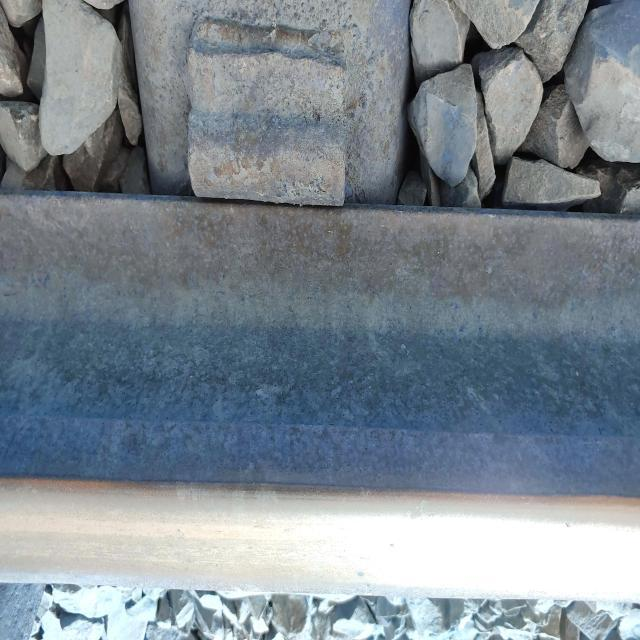Missing Fastener: (162, 4, 370, 225)
